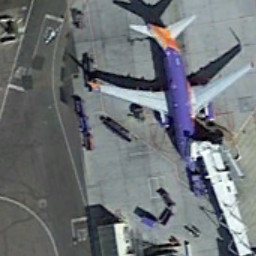Airplane: (86, 11, 255, 171)
